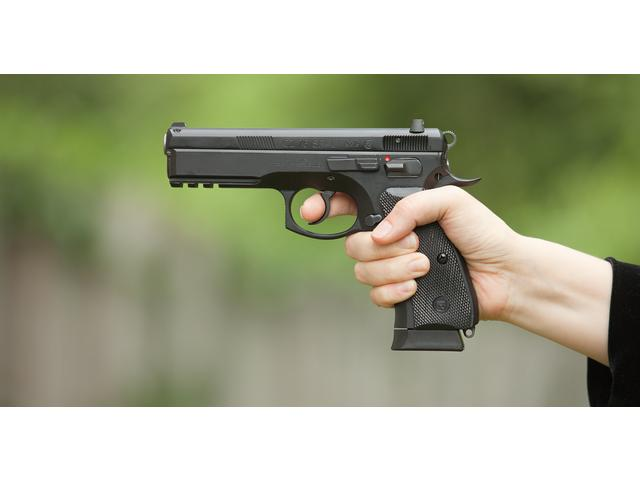pistol: (163, 119, 480, 355)
